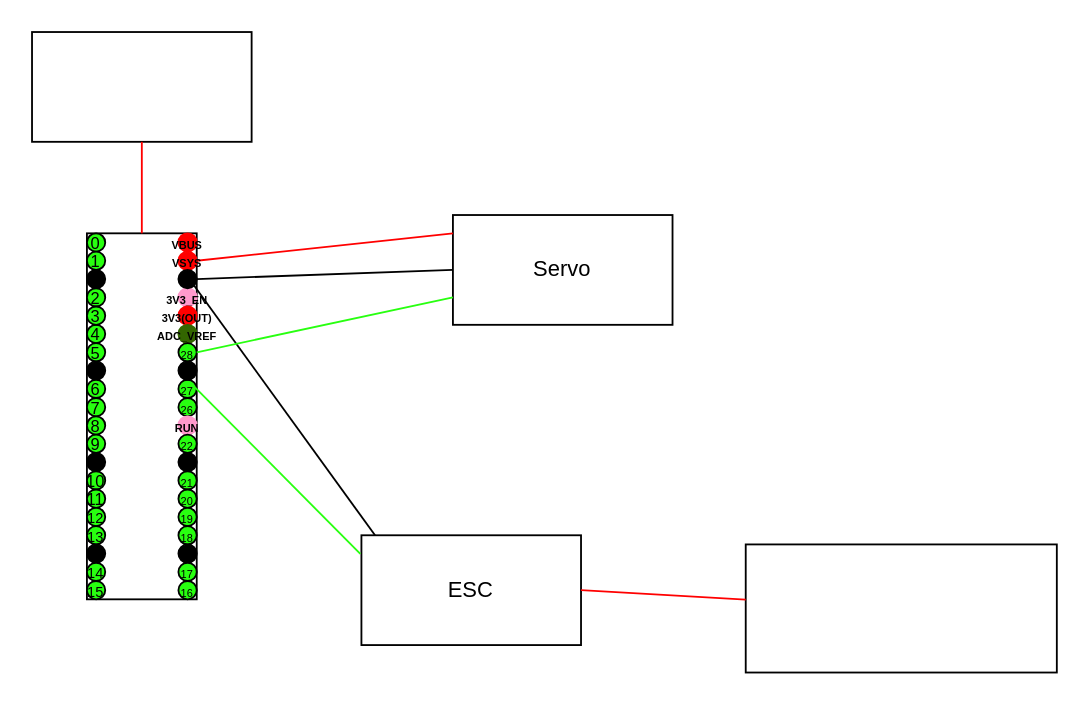
Some shapes in this 1089 by 705 pixel diagram are drawn without their labels. Each missing label, with the centre of its shape:
Battery(7.2V): (x=900, y=608)
Portable Charger or computer: (x=141, y=86)
